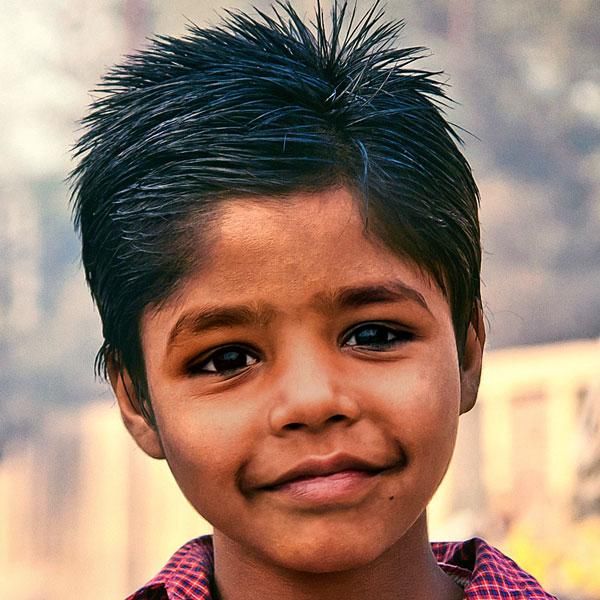Eyes: (176, 336, 273, 384), (334, 314, 421, 364)
